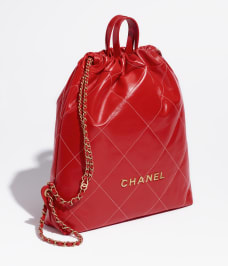channel: (47, 27, 199, 226), (73, 58, 94, 205), (115, 166, 166, 194)
